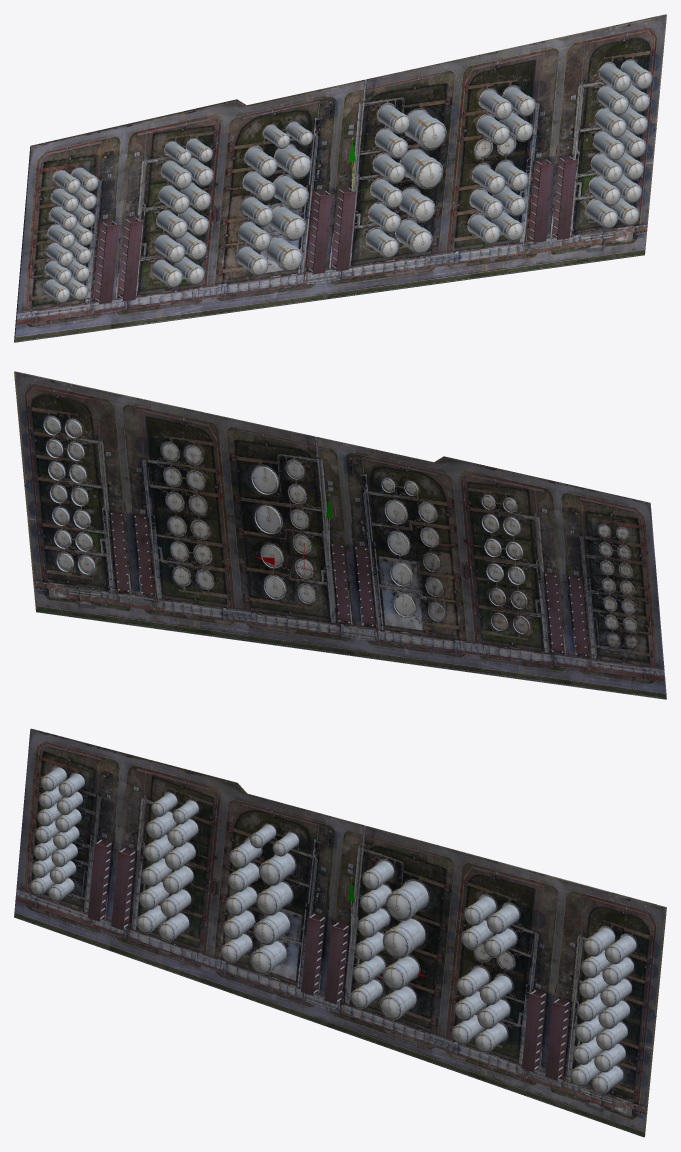
3 renders of one model, top to bottom at view 1: azimuth 30°, elevation 25°; view 2: azimuth 150°, elevation 25°; view 3: azimuth 330°, elevation 25°, orthographic.
Visible parts, largest first — view 1: p10_01; view 2: p10_01; view 3: p10_01.
Part boxes in pixels (left/top/right/bottom): p10_01: left=14, top=14, right=666, bottom=342; p10_01: left=14, top=371, right=666, bottom=699; p10_01: left=14, top=728, right=666, bottom=1137.
Bounding box in the file's own units: 49006 × 18571 × 2556.
